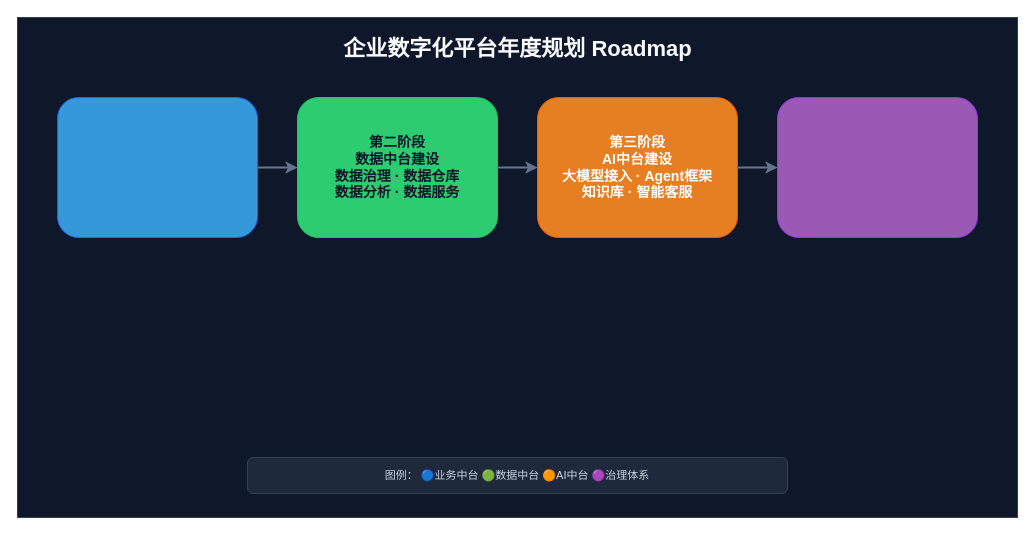
The diagram is 1035 pixels wide and 535 high, and some of its shapes have lost their labels. The box of each missing label's shape, as (x1, y1, x2, y2) in pixels:
第一阶段 业务中台建设 订单中心 · 用户中心 商品中心 · 支付中心: (56, 96, 258, 238)
第四阶段 治理体系建设 安全合规 · 监控告警 成本优化 · 持续交付: (776, 96, 978, 238)
